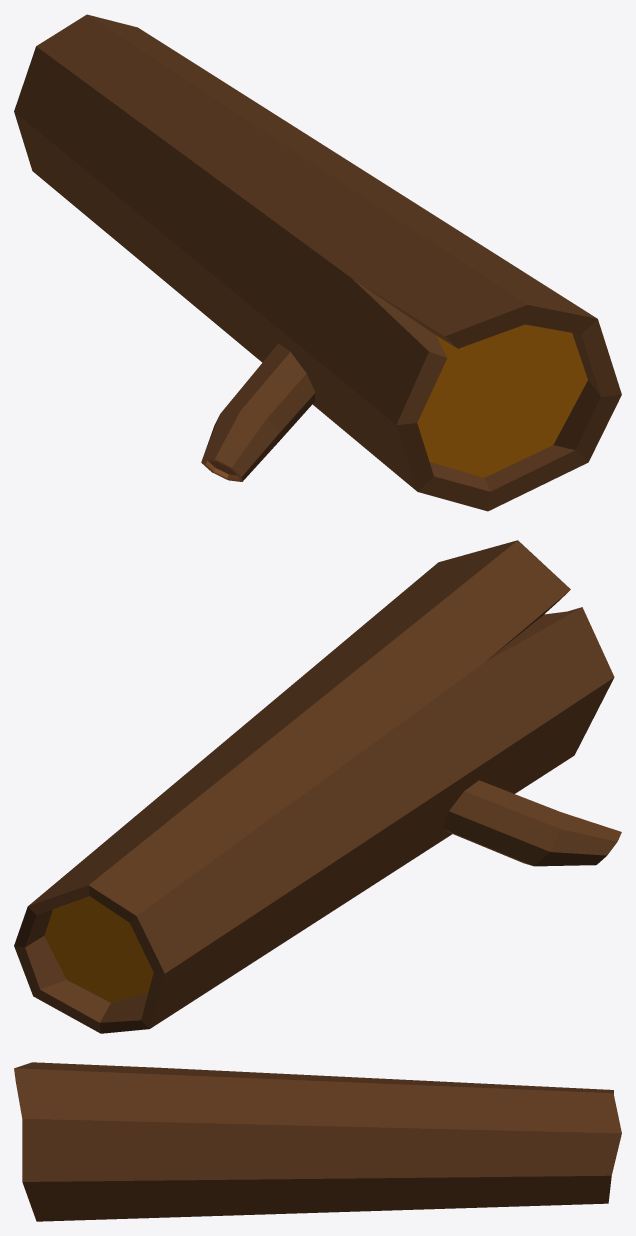
Rendered from log_3.glb.
The picture shows the model from 3 angles, top to bottom: view 1: azimuth 30°, elevation 25°; view 2: azimuth 150°, elevation 25°; view 3: azimuth 270°, elevation 25°; orthographic projection. The views are drawn at different scales.
Parts seen in each view (by area): view 1: log_3; view 2: log_3; view 3: log_3.
Boxes of the visible parts, x1,y1,x2,y2 form: log_3: (14, 14, 621, 511); log_3: (14, 540, 621, 1033); log_3: (14, 1062, 621, 1221).
Bounding box in the file's own units: 0.9712 × 0.666 × 2.4.
